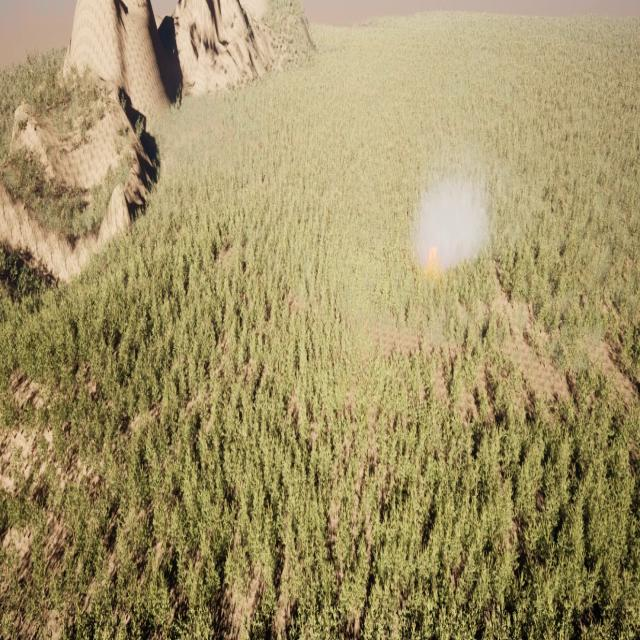fire: (430, 245, 440, 270)
smoke: (410, 138, 491, 277)
